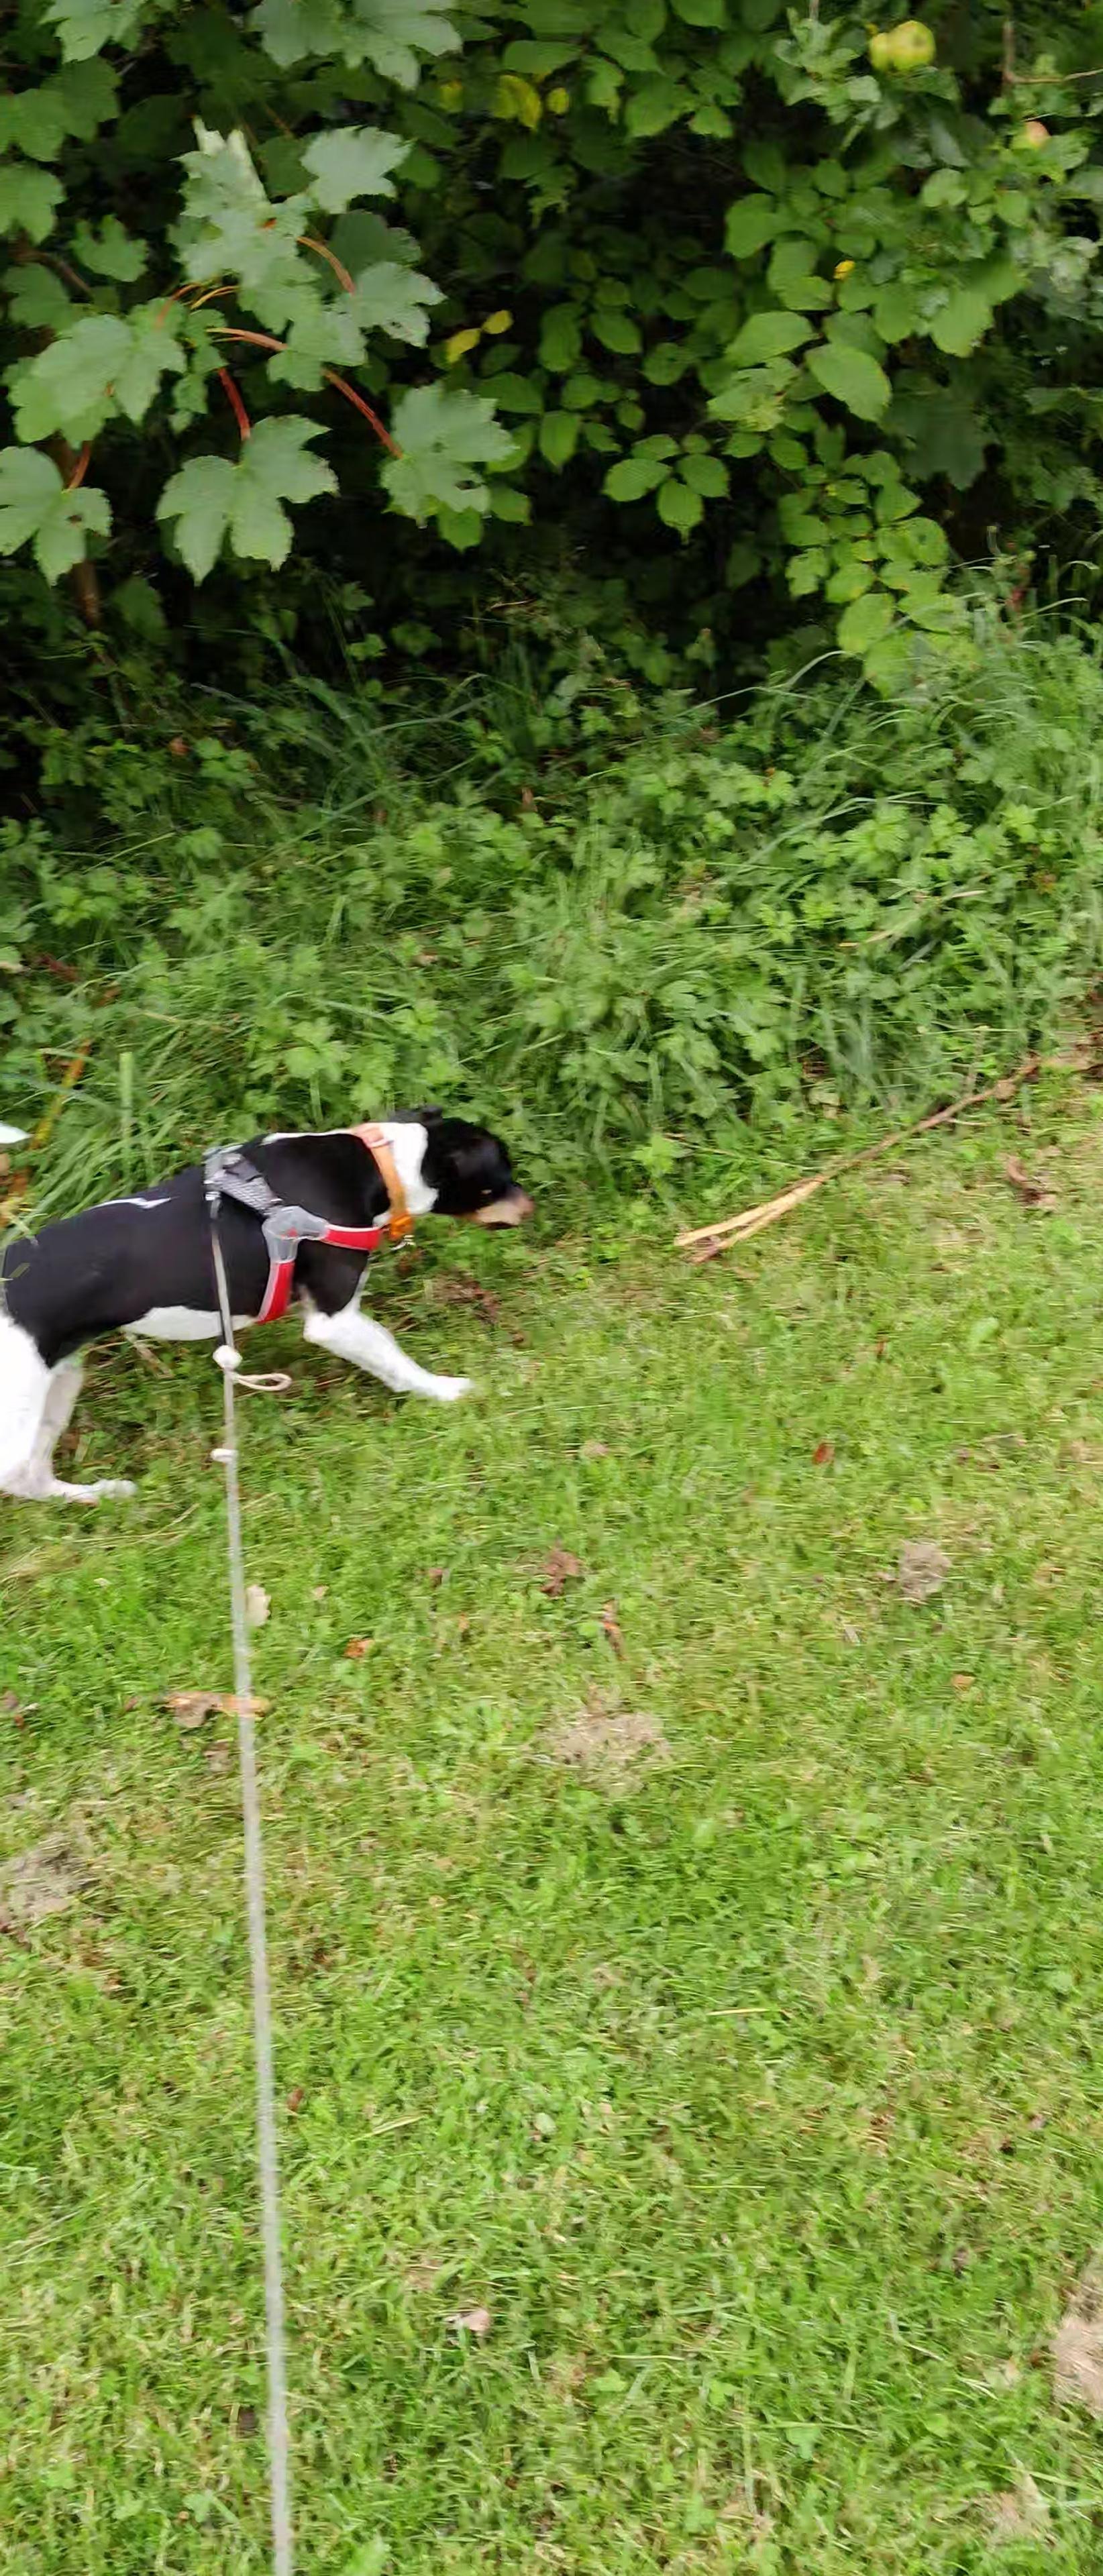Dog: (0, 1099, 554, 1526)
